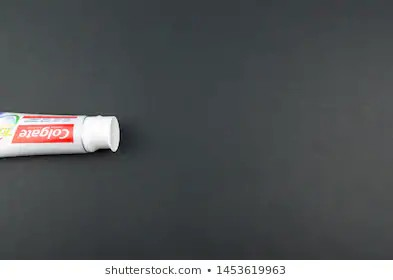colgate-total-150gm: (1, 103, 119, 172)
